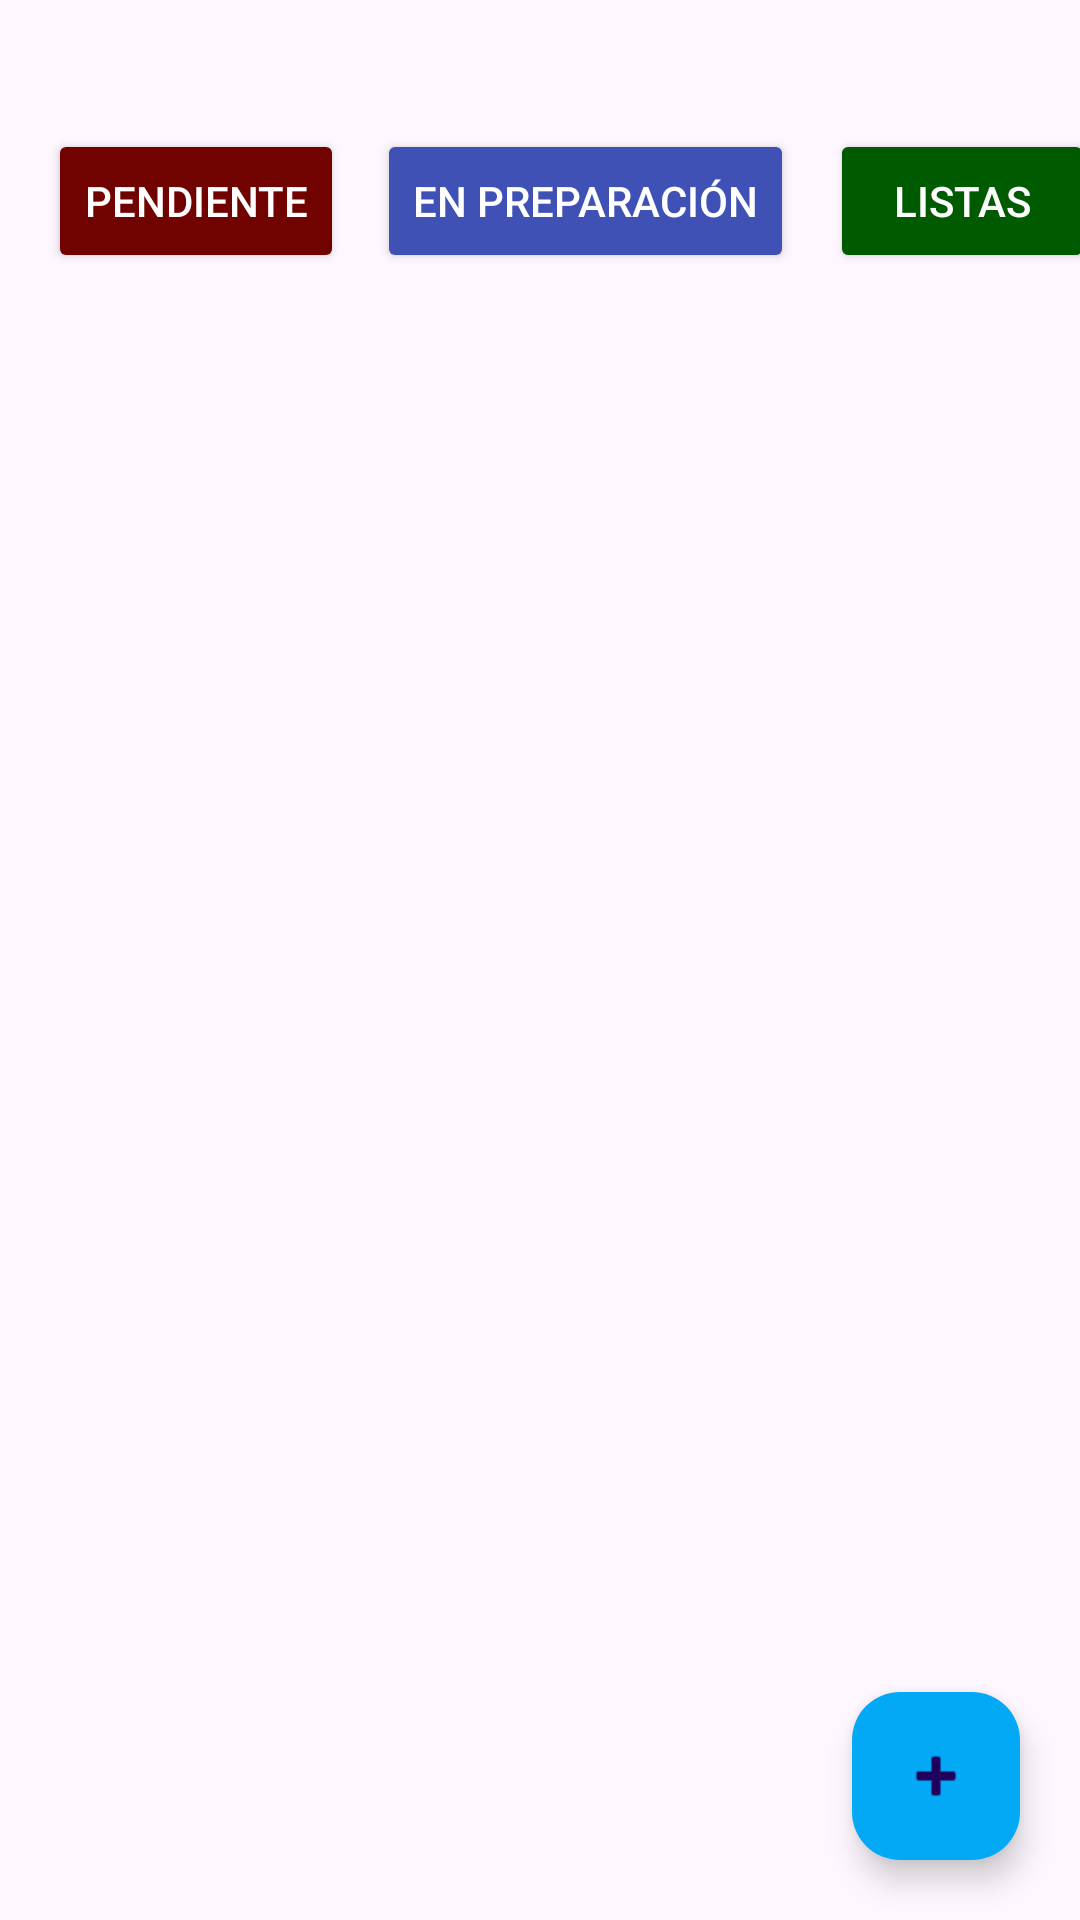

Screen size 1080x1920. Icon name, then its box in pixels as (x1, y1, x2, y2):
Agregar: (852, 1692, 1020, 1860)
